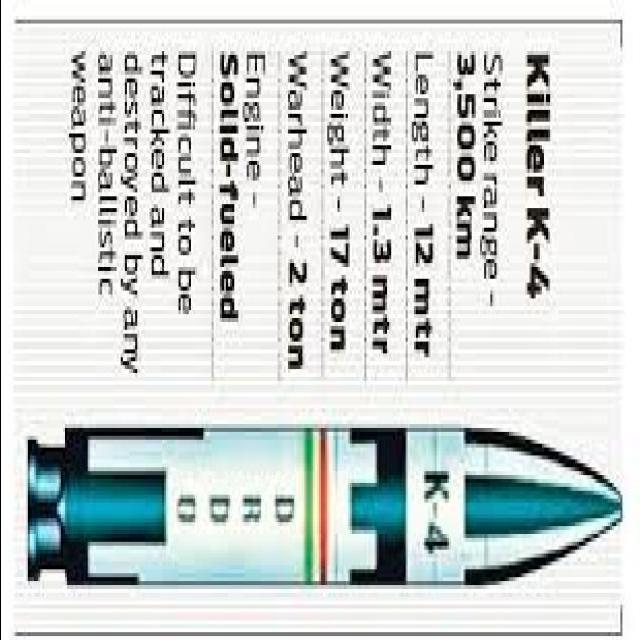Missile: (20, 384, 634, 609)
